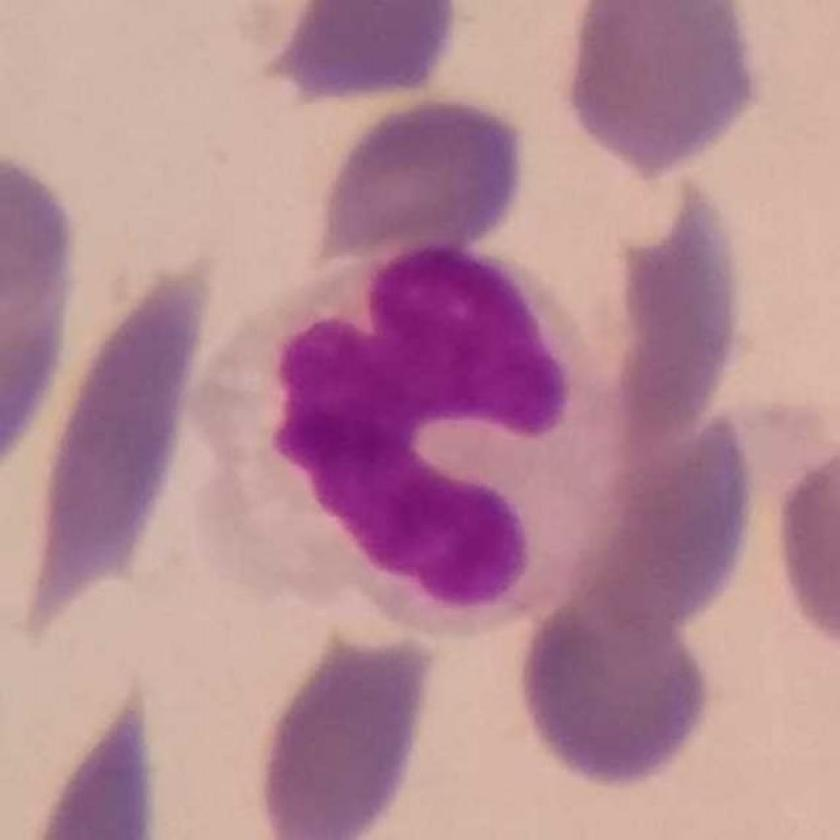monocyte: (188, 235, 634, 642)
